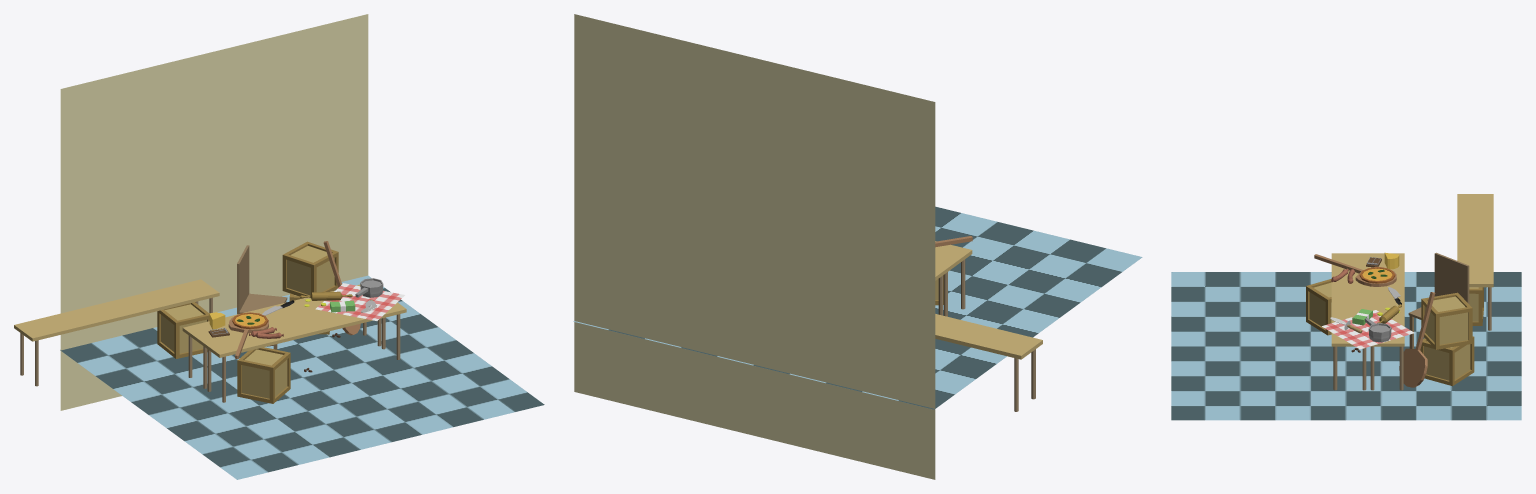
Rendered from MainMenuSceneNew.fbx.
3 renders of one model, left to right at view 1: azimuth 30°, elevation 25°; view 2: azimuth 150°, elevation 25°; view 3: azimuth 270°, elevation 25°, orthographic. The views are drawn at different scales.
Visible parts, largest first — view 1: Wall, Floor, KitchenLongTable.005, KitchenLongTable.001, SupplyBox, SupplyBox.002, KitchenLongTable.004, SupplyBox.003, Cloth, Chair; view 2: Wall, Floor, KitchenLongTable.005, KitchenLongTable.001; view 3: Floor, KitchenLongTable.005, KitchenLongTable.001, SupplyBox.002, KitchenLongTable.004, SupplyBox.001, Chair, Cloth, SupplyBox, PizzaPaddle.001, SupplyBox.003, PizzaPaddle (+1 smaller).
Boxes of the visible parts, x1,y1,x2,y2 form: Wall: (60,14,368,410); Floor: (60,275,544,479); KitchenLongTable.005: (14,279,219,386); KitchenLongTable.001: (201,302,406,402); SupplyBox: (237,347,290,403); SupplyBox.002: (282,241,338,296); KitchenLongTable.004: (182,284,381,388); SupplyBox.003: (157,302,209,358); Cloth: (315,283,404,320); Chair: (237,245,287,349); Wall: (574,14,935,479); Floor: (573,206,1142,409); KitchenLongTable.005: (935,314,1042,411); KitchenLongTable.001: (935,241,972,316); Floor: (1171,272,1521,420); KitchenLongTable.005: (1457,194,1493,330); KitchenLongTable.001: (1331,253,1368,390); SupplyBox.002: (1421,292,1472,349); KitchenLongTable.004: (1368,253,1404,390); SupplyBox.001: (1420,336,1474,385); Chair: (1408,252,1469,348); Cloth: (1322,310,1414,349); SupplyBox: (1306,279,1331,335); PizzaPaddle.001: (1399,292,1435,387); SupplyBox.003: (1469,287,1483,325); PizzaPaddle: (1314,254,1396,286).
Size of the model in its own units: 623 by 522 by 522.
